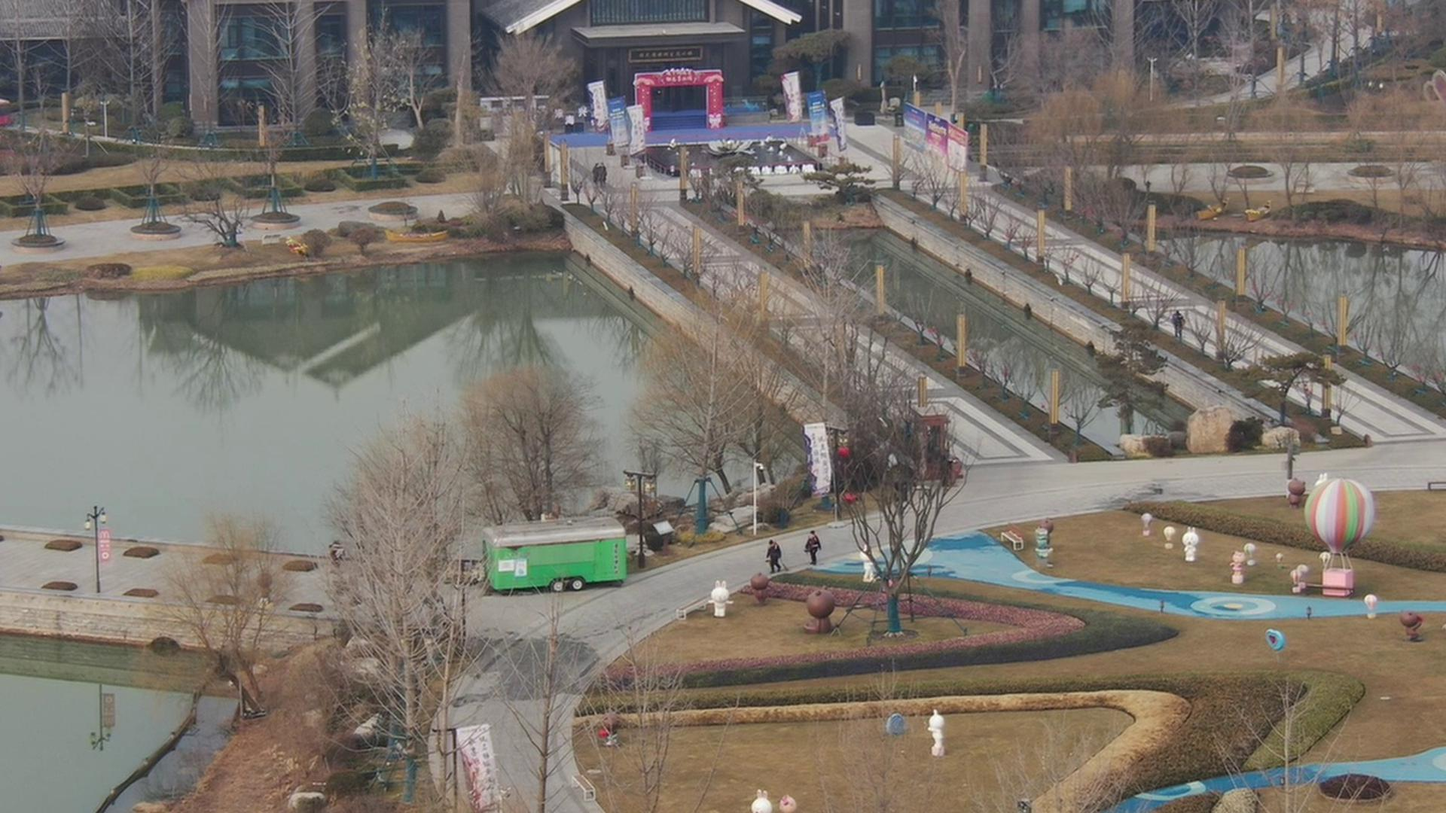class_2: (581, 150, 604, 188)
human: (756, 534, 784, 574), (798, 517, 821, 560)
